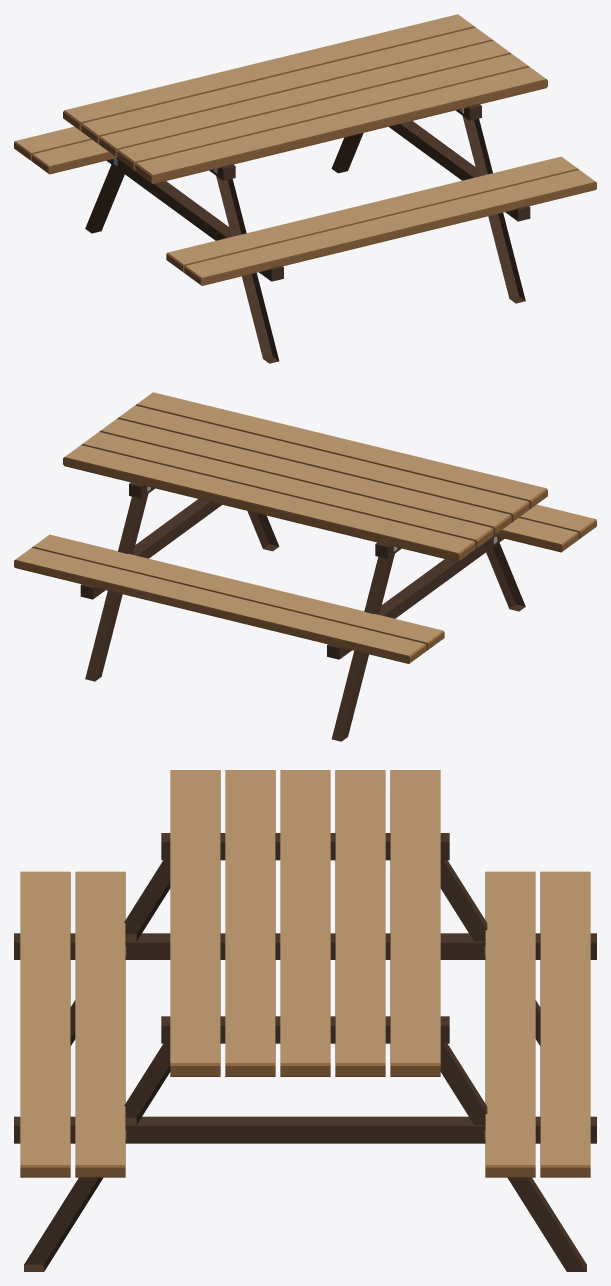
The model's file is FN_Table_Picnic.obj.
The picture shows the model from 3 angles, top to bottom: view 1: azimuth 30°, elevation 25°; view 2: azimuth 150°, elevation 25°; view 3: azimuth 270°, elevation 25°; orthographic projection. The views are drawn at different scales.
Visible parts, largest first — view 1: FN_Table_Picnic; view 2: FN_Table_Picnic; view 3: FN_Table_Picnic.
Boxes of the visible parts, <box> form: FN_Table_Picnic: <box>14,14,596,363</box>; FN_Table_Picnic: <box>14,392,596,741</box>; FN_Table_Picnic: <box>14,770,596,1271</box>.
Bounding box in the file's own units: 1.8 × 0.74 × 1.5.
Materials: 1 (1 with a texture image).
